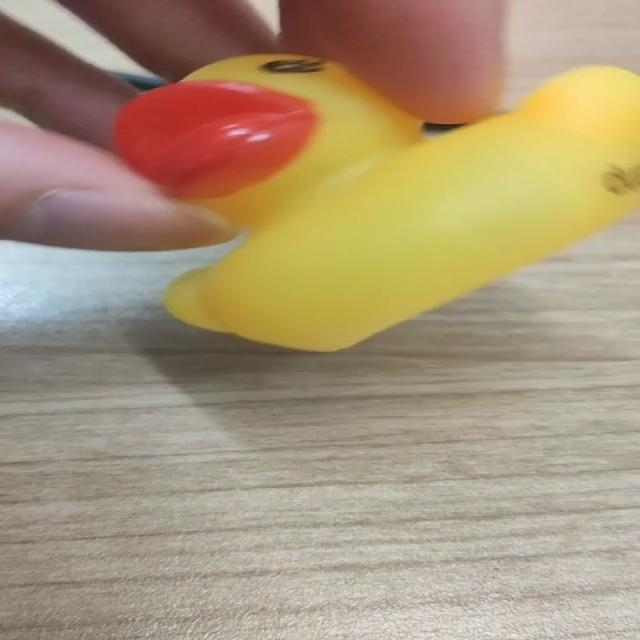rubber-duck: (165, 54, 638, 349)
